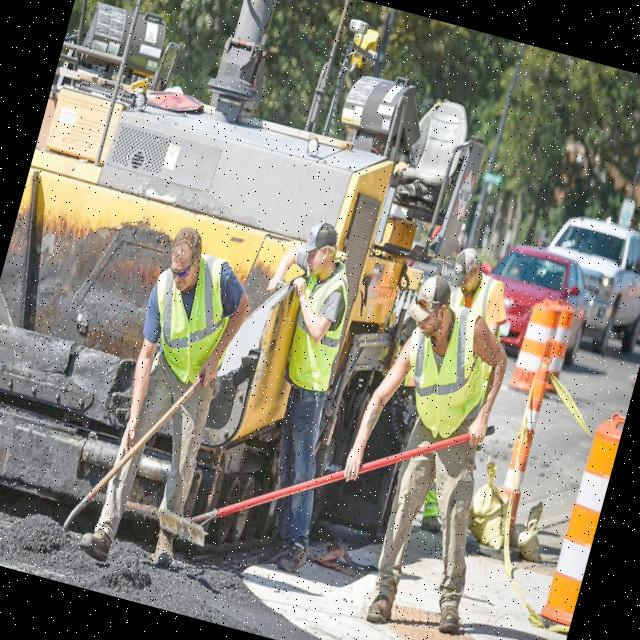Helmet: (408, 272, 456, 329), (295, 217, 343, 270)
Jacket: (141, 269, 238, 383), (400, 315, 491, 431), (281, 273, 357, 396)
